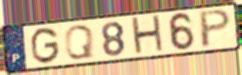6: (167, 11, 198, 53)
8: (100, 20, 128, 57)
G: (30, 26, 61, 65)
H: (130, 14, 167, 58)
P: (198, 7, 234, 50)
Q: (63, 24, 95, 61)
